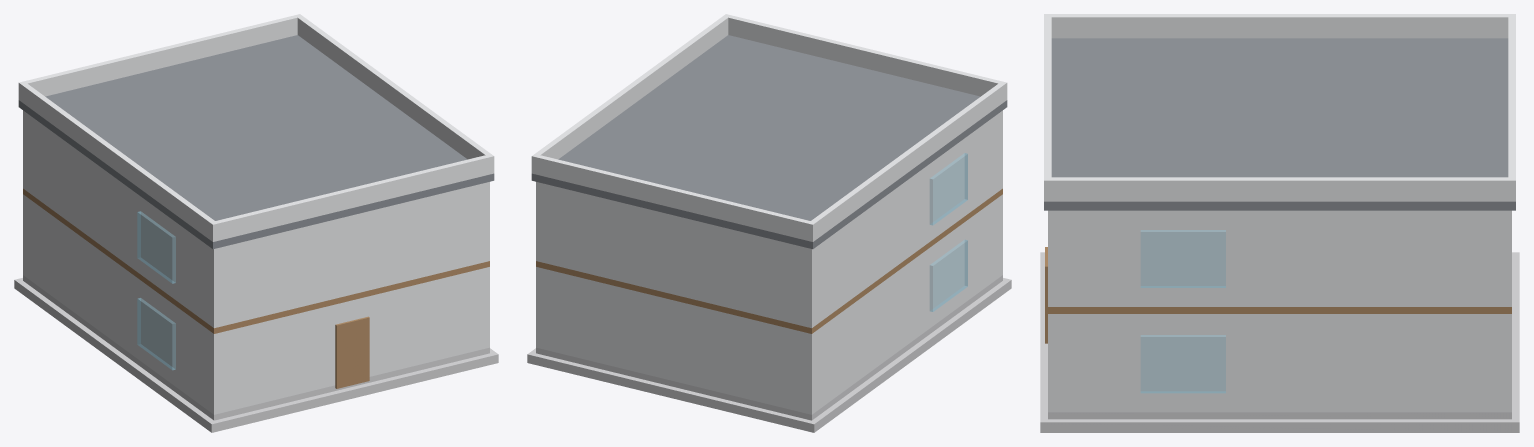
Rendered from AI_Generated_Building_3D.fbx.
The picture shows the model from 3 angles, left to right: view 1: azimuth 30°, elevation 25°; view 2: azimuth 150°, elevation 25°; view 3: azimuth 270°, elevation 25°; orthographic projection. The views are drawn at different scales.
Visible parts, largest first — view 1: AI_RoofSlab, AI_Wall_S_L2, AI_Wall_S_L1, AI_Wall_W_L1, AI_Wall_W_L2, AI_Foundation, AI_RoofParapet_S, AI_RoofParapet_N, AI_RoofParapet_W, AI_RoofParapet_E, AI_FloorSlab_L2, AI_FloorSlab_L1 (+5 smaller); view 2: AI_RoofSlab, AI_Wall_N_L1, AI_Wall_N_L2, AI_Wall_W_L1, AI_Wall_W_L2, AI_Foundation, AI_RoofParapet_N, AI_RoofParapet_S, AI_RoofParapet_W, AI_RoofParapet_E, AI_FloorSlab_L2, AI_FloorSlab_L1 (+2 smaller); view 3: AI_RoofSlab, AI_Wall_E_L1, AI_Wall_E_L2, AI_RoofParapet_E, AI_RoofParapet_W, AI_Foundation, AI_Window_E_L1, AI_Window_E_L2, AI_FloorSlab_L1, AI_FloorSlab_L2, AI_RoofParapet_N, AI_RoofParapet_S (+1 smaller).
Part boxes in pixels (<box>): AI_RoofSlab: <box>18,35,494,249</box>; AI_Wall_S_L2: <box>211,183,484,328</box>; AI_Wall_S_L1: <box>211,268,484,414</box>; AI_Wall_W_L1: <box>23,195,219,412</box>; AI_Wall_W_L2: <box>23,110,219,327</box>; AI_Foundation: <box>14,278,498,432</box>; AI_RoofParapet_S: <box>209,155,494,241</box>; AI_RoofParapet_N: <box>24,14,302,96</box>; AI_RoofParapet_W: <box>18,81,214,241</box>; AI_RoofParapet_E: <box>295,14,494,173</box>; AI_FloorSlab_L2: <box>23,188,489,333</box>; AI_FloorSlab_L1: <box>23,275,489,420</box>; AI_RoofSlab: <box>531,35,1007,249</box>; AI_Wall_N_L1: <box>536,267,814,414</box>; AI_Wall_N_L2: <box>536,182,813,327</box>; AI_Wall_W_L1: <box>806,194,1002,414</box>; AI_Wall_W_L2: <box>806,110,1002,327</box>; AI_Foundation: <box>527,278,1011,432</box>; AI_RoofParapet_N: <box>531,155,815,241</box>; AI_RoofParapet_S: <box>723,14,1001,96</box>; AI_RoofParapet_W: <box>807,81,1007,241</box>; AI_RoofParapet_E: <box>531,14,730,174</box>; AI_FloorSlab_L2: <box>536,188,1002,333</box>; AI_FloorSlab_L1: <box>536,275,1002,420</box>; AI_RoofSlab: <box>1044,38,1515,210</box>; AI_Wall_E_L1: <box>1048,314,1511,412</box>; AI_Wall_E_L2: <box>1048,210,1511,306</box>; AI_RoofParapet_E: <box>1044,177,1515,201</box>; AI_RoofParapet_W: <box>1044,14,1515,38</box>; AI_Foundation: <box>1040,252,1519,432</box>; AI_Window_E_L1: <box>1140,335,1225,393</box>; AI_Window_E_L2: <box>1140,230,1225,287</box>; AI_FloorSlab_L1: <box>1048,412,1511,419</box>; AI_FloorSlab_L2: <box>1048,307,1511,313</box>; AI_RoofParapet_N: <box>1508,14,1515,201</box>; AI_RoofParapet_S: <box>1044,14,1051,201</box>.
Size of the model in its own units: 10.4 by 7.15 by 12.4.
